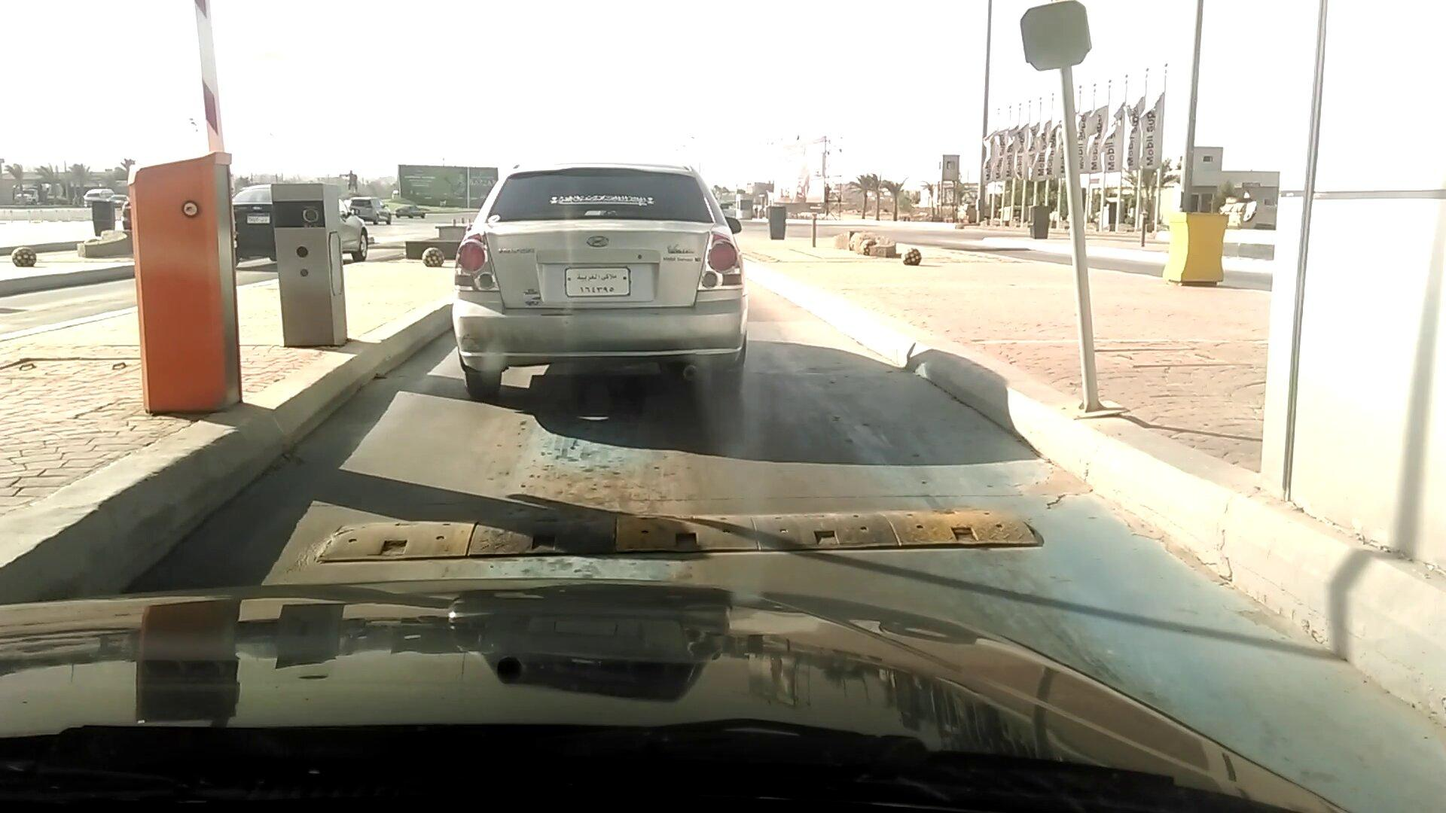Bump: (319, 503, 1047, 568)
